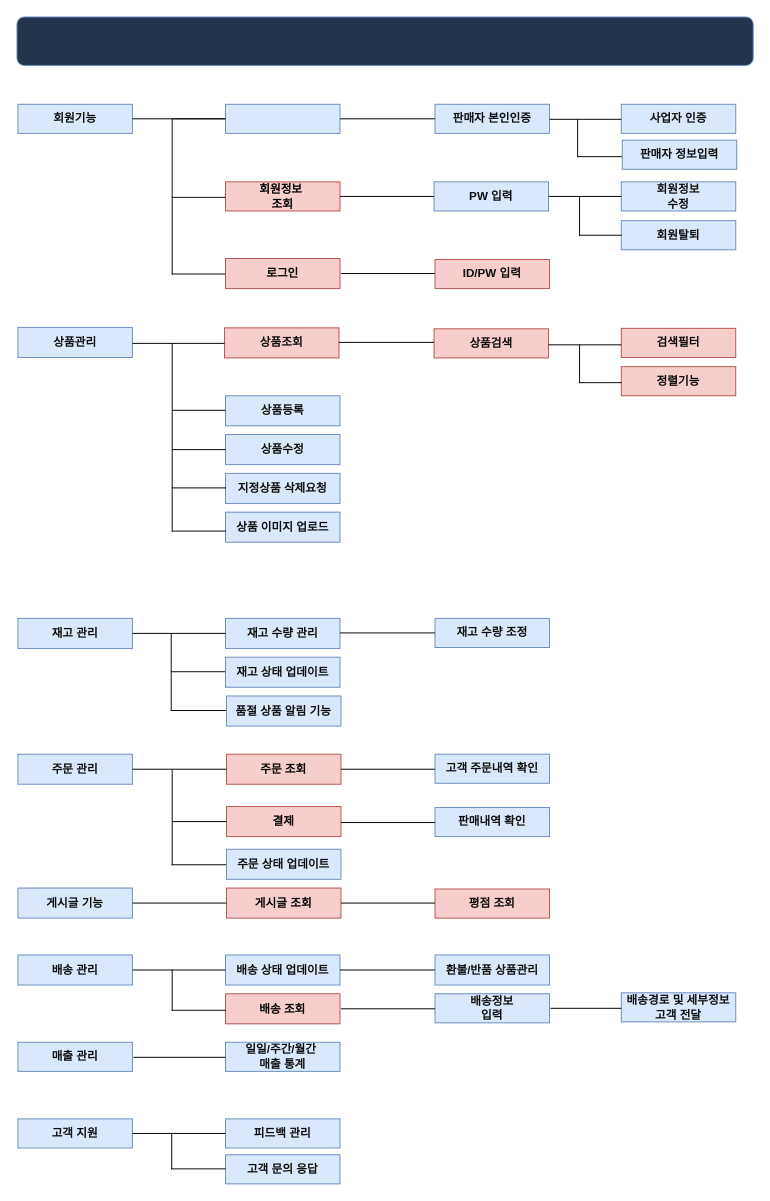
Image size: 770x1201. Some labels were removed from this diagram. The shapes that lost their labels are listed below. From the top down, each one's centre as x and y in pixels, then its label:
[384,40]: 업무 기능 분해도를 통한 공통 기능 식별(푸드메이트)_판매자
[282,118]: 회원가입
